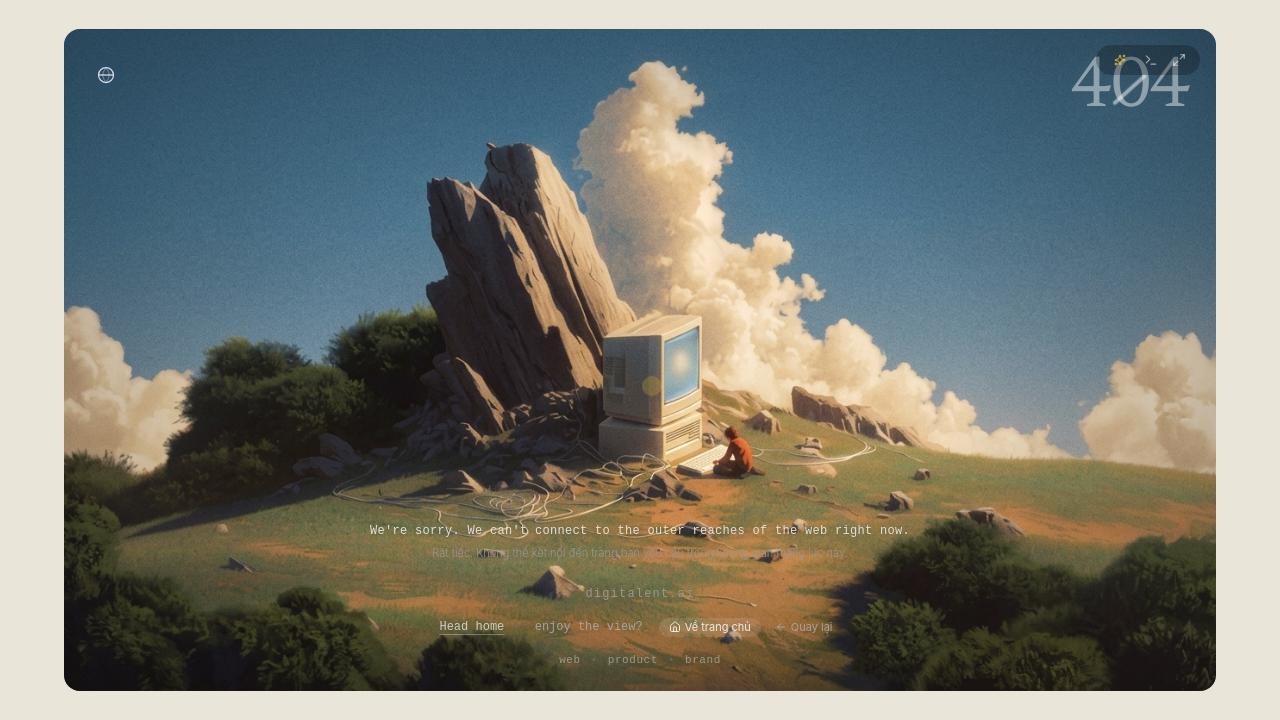
NotFoundPage › opens and closes the vintage CRT terminal modal
Step 1. Click the button named "Mở CRT terminal" → x=1151, y=60, box x1=1140 y1=49 x2=1162 y2=71
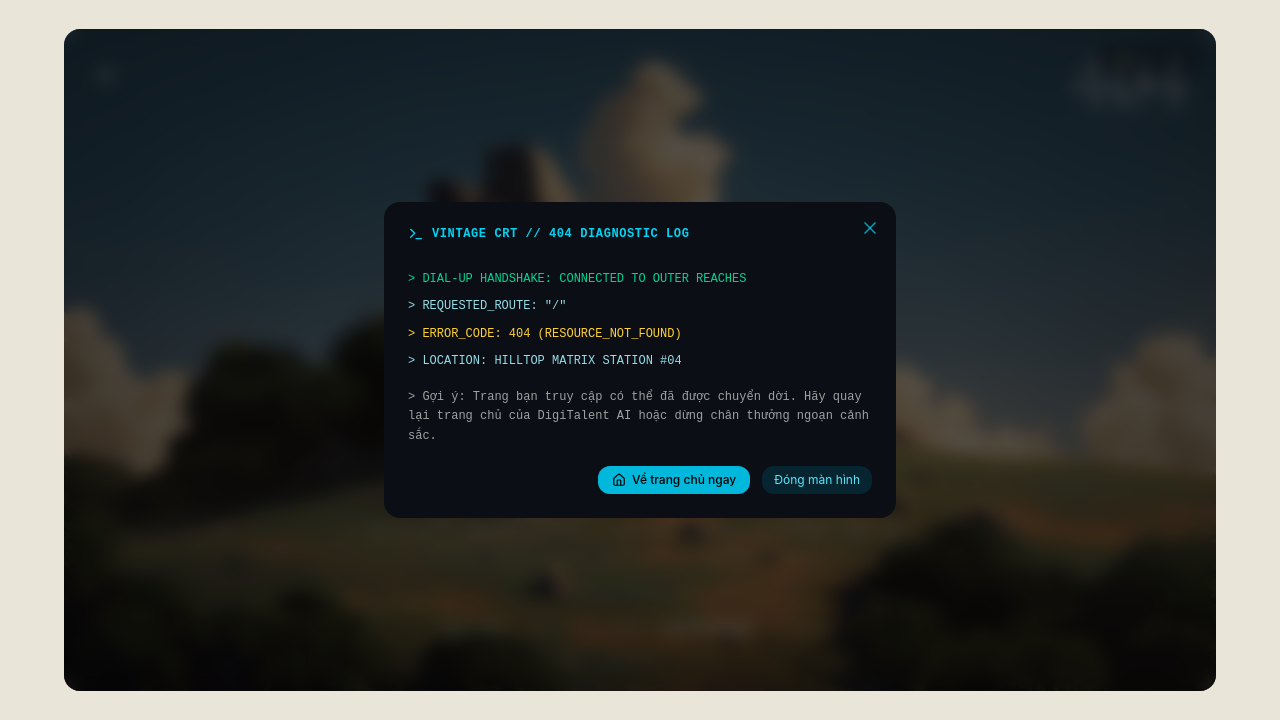
Check: the text "VINTAGE CRT // 404 DIAGNOSTIC LOG" is shown, box x1=432 y1=226 x2=690 y2=242
Check: the text "> ERROR_CODE: 404 (RESOURCE_NOT_FOUND)" is shown, box x1=408 y1=327 x2=682 y2=341
Step 2. Click the button "Đóng màn hình" → x=817, y=480, box x1=762 y1=466 x2=872 y2=494
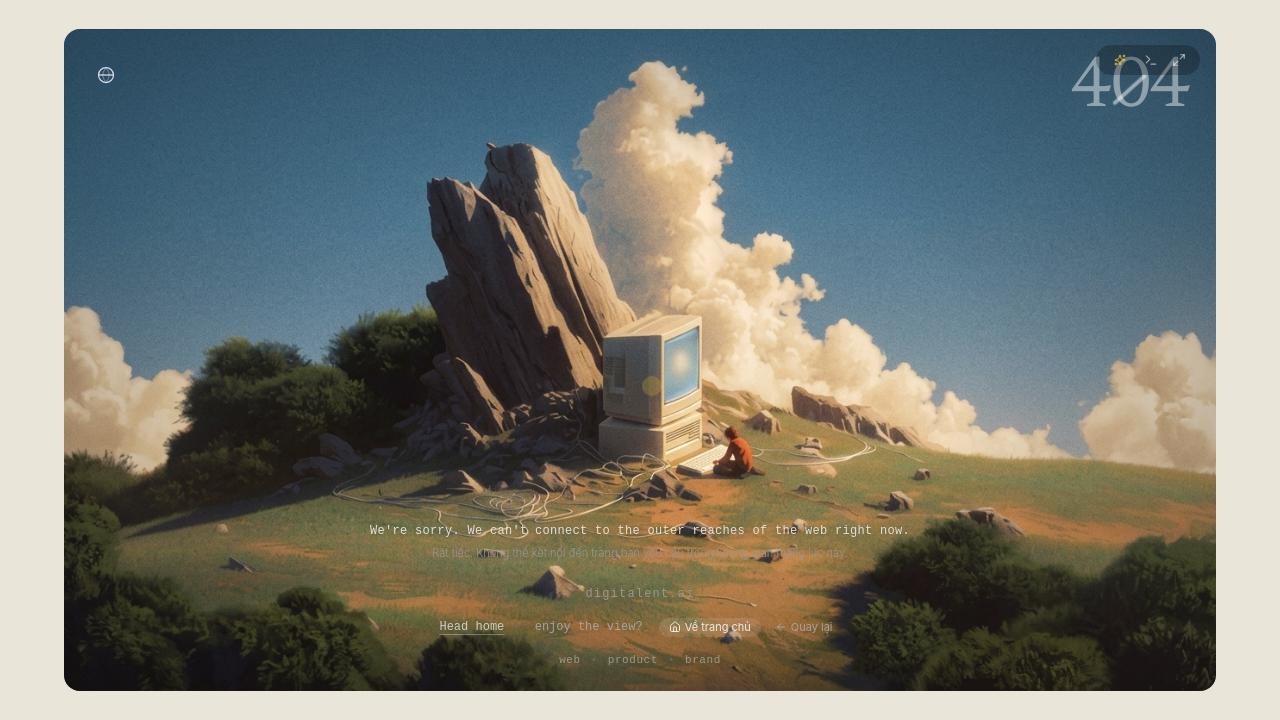
Check: the text "VINTAGE CRT // 404 DIAGNOSTIC LOG" is gone
